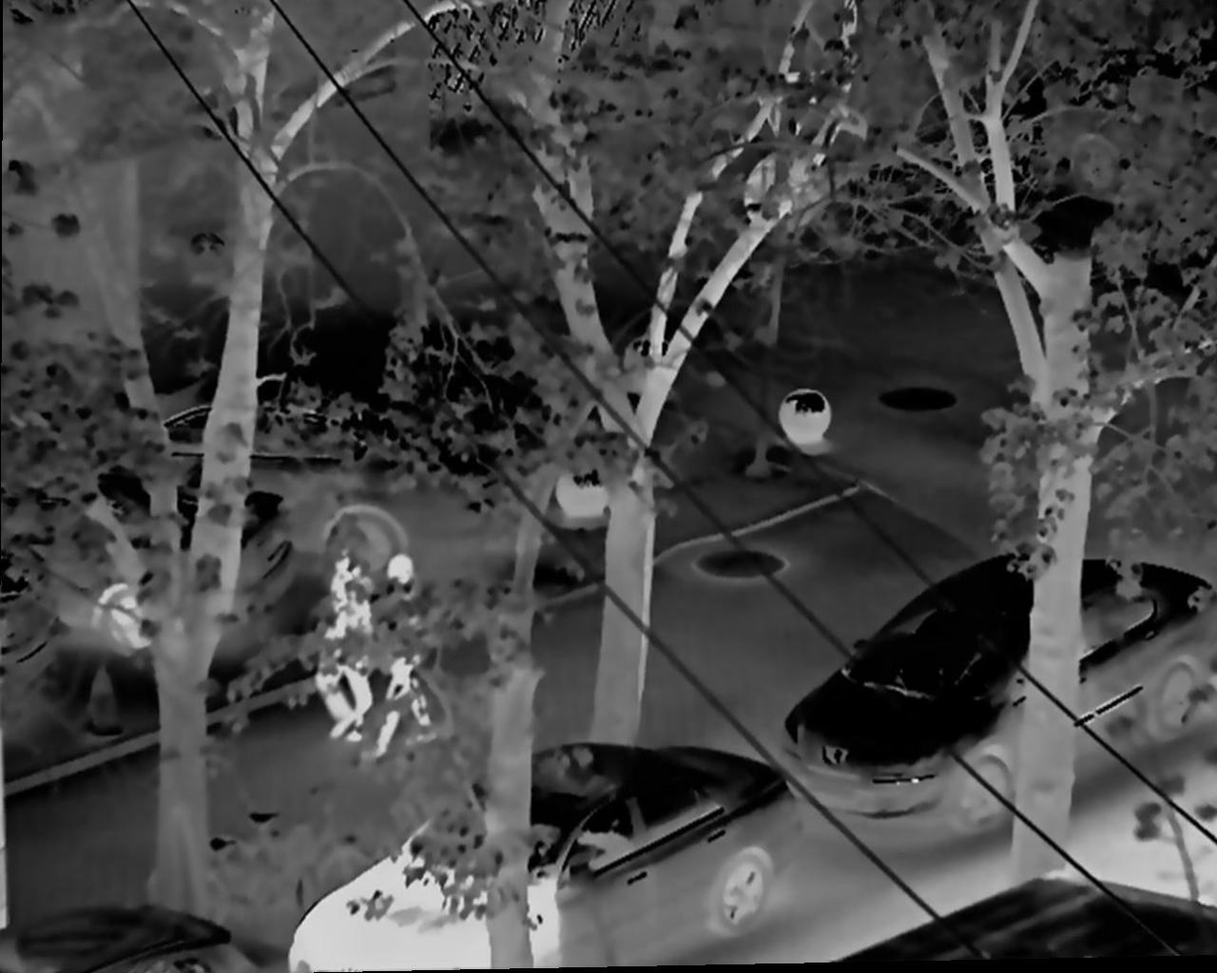person: (361, 551, 444, 767), (308, 547, 380, 757)
